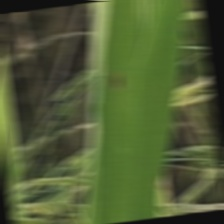Bacterial_Leaf_Blight: (110, 65, 124, 93)
